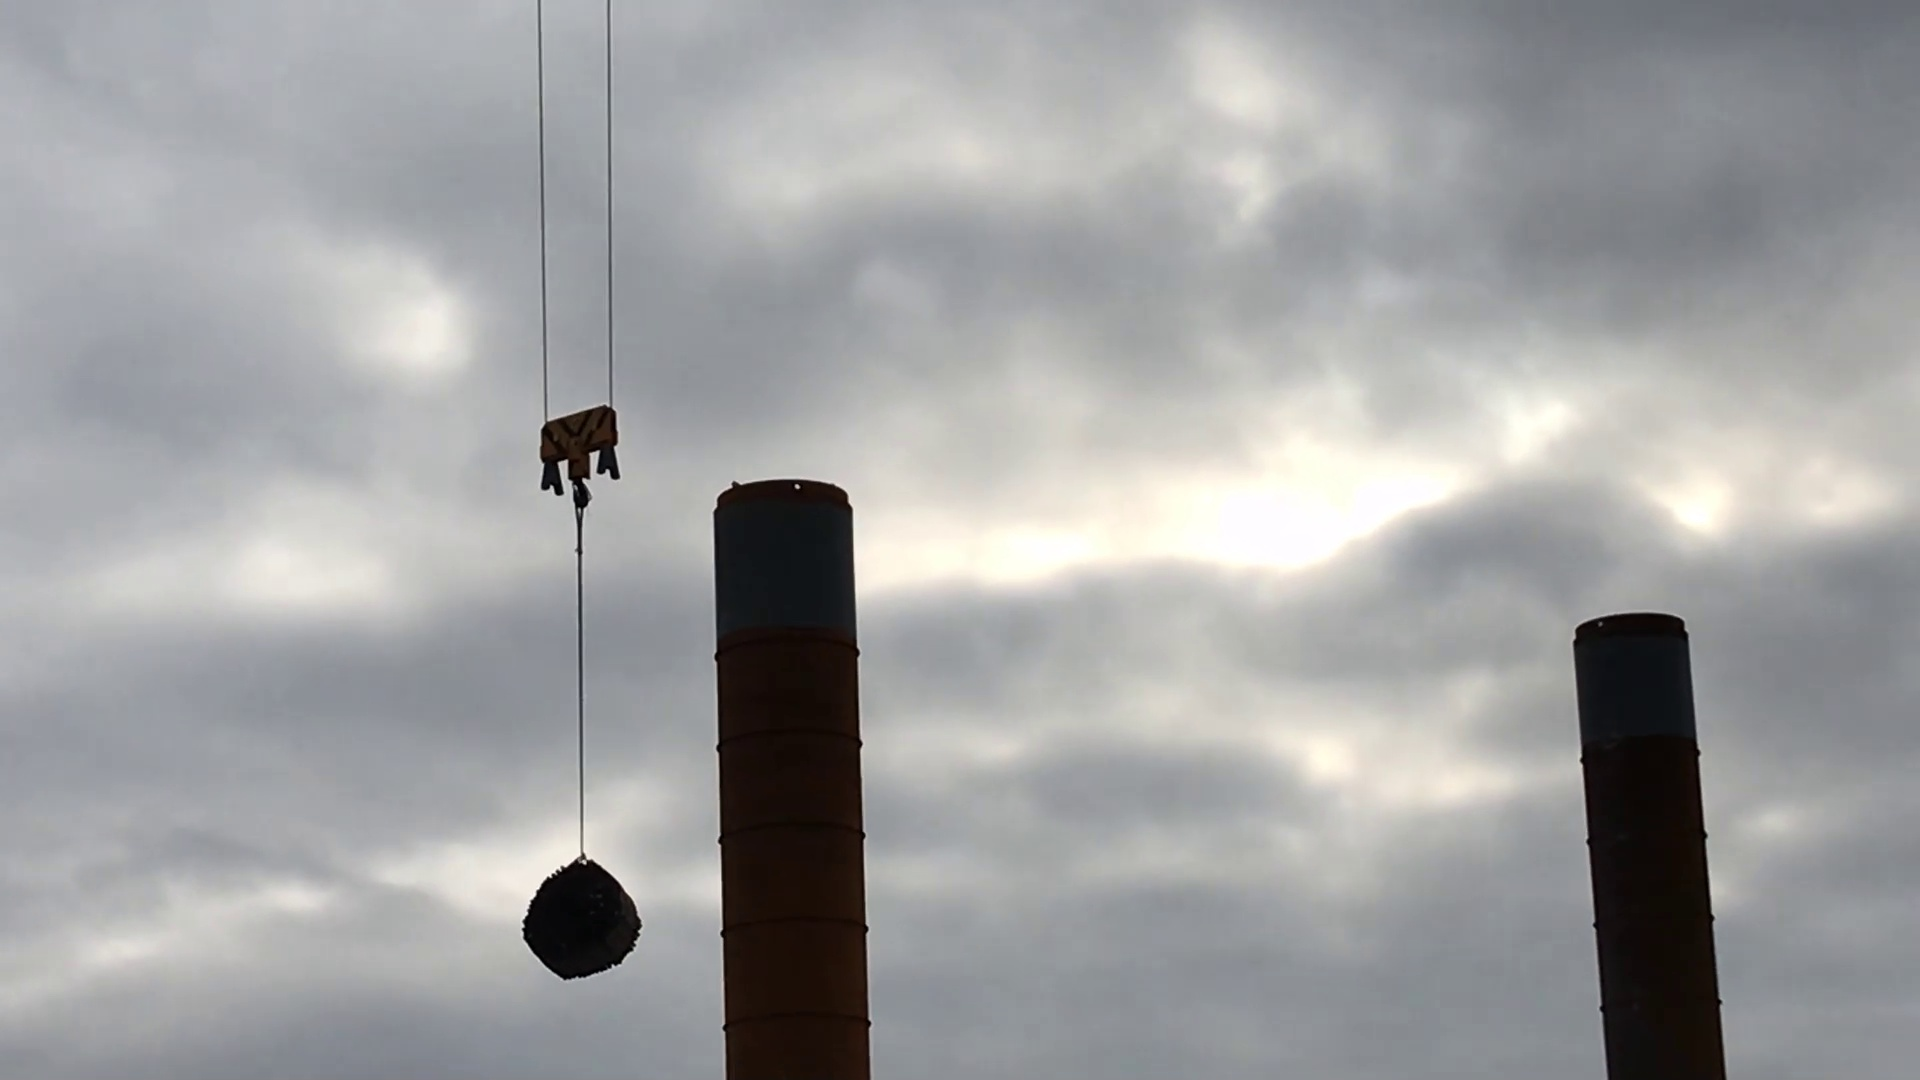hook: (505, 400, 640, 502)
